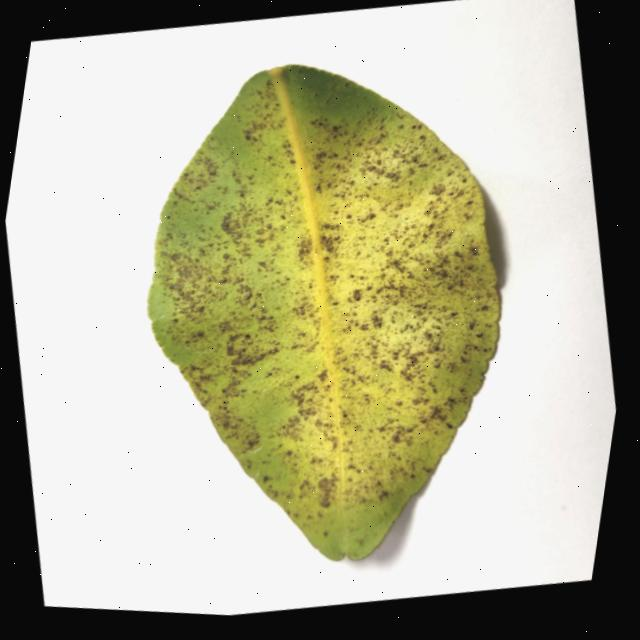melanose: (148, 63, 500, 559)
